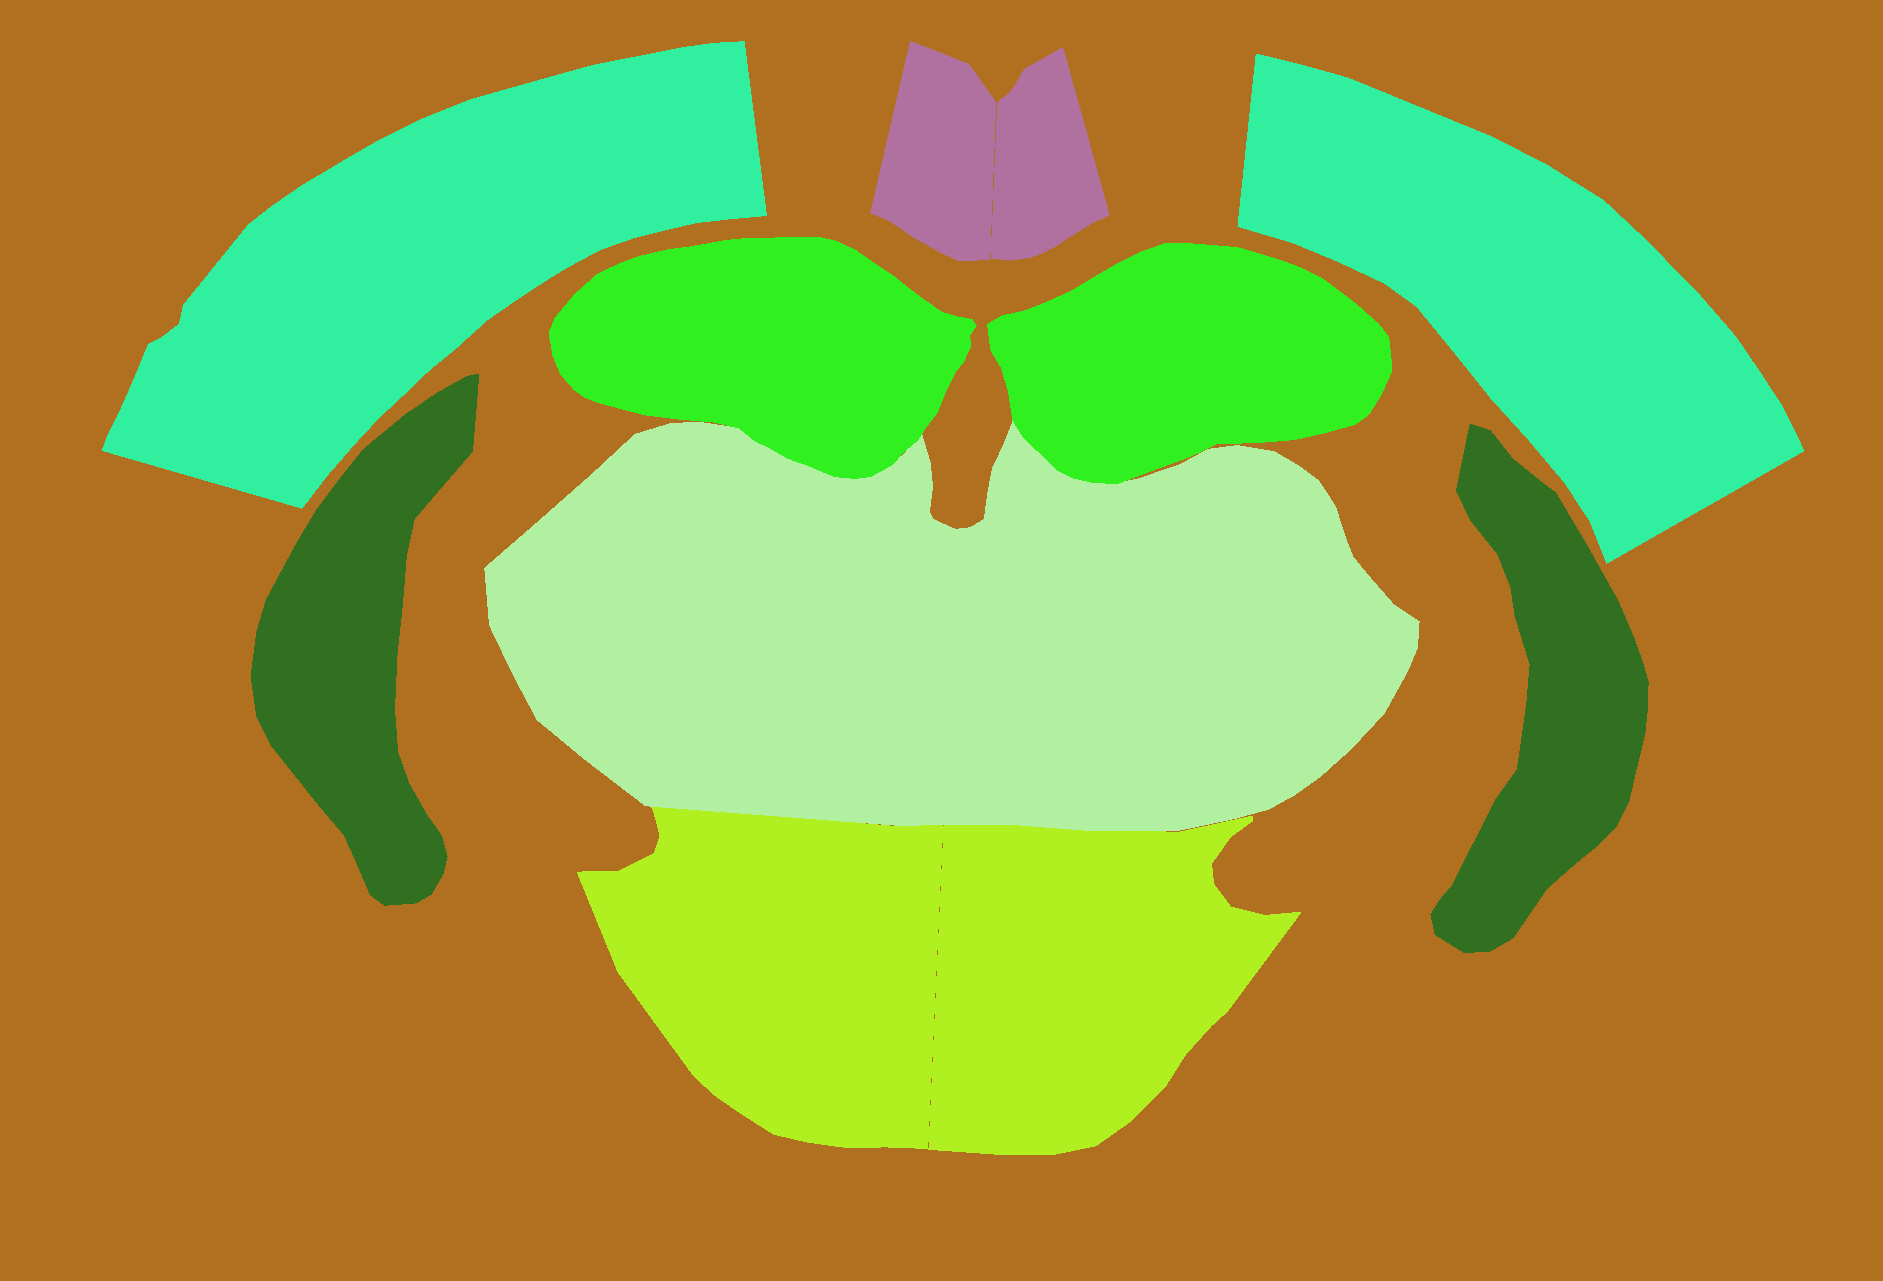Cerebral nuclei: (252, 373, 480, 905), (1430, 423, 1649, 954)
Hippocampal formation: (548, 237, 977, 479), (987, 243, 1393, 485)
Hypothalamus: (928, 815, 1303, 1155), (576, 805, 944, 1149)
Retrosplenial area: (869, 41, 997, 262), (991, 47, 1109, 262)
Somatosensory area: (102, 41, 766, 509), (1237, 53, 1804, 563)
Thalamus: (944, 417, 1420, 831), (485, 422, 957, 826)
